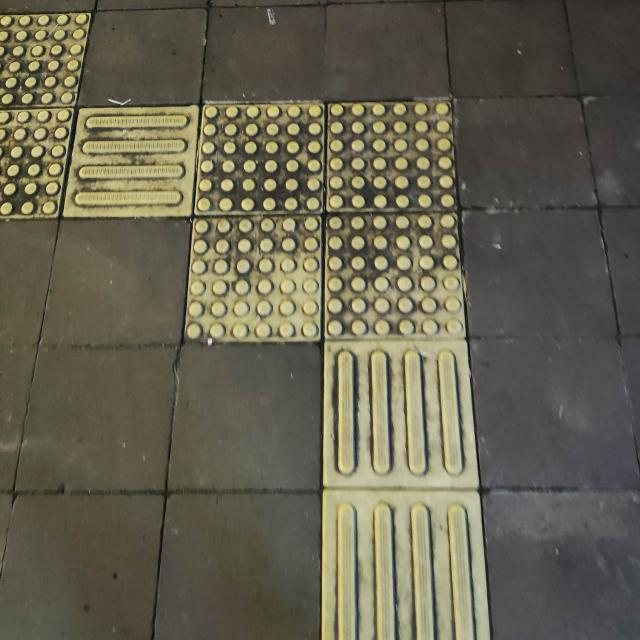kiri: (66, 54, 548, 475)
